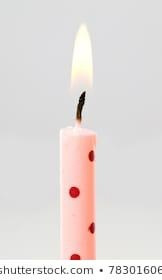fire: (70, 21, 94, 93)
